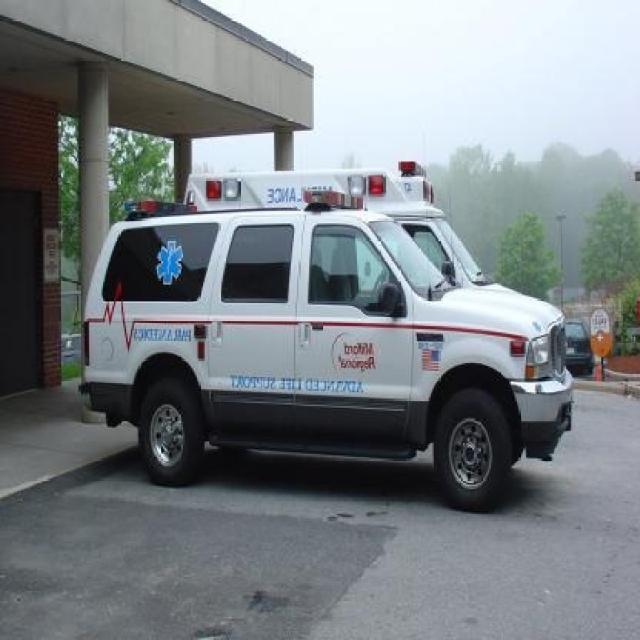Car: (75, 187, 572, 508)
Van: (172, 158, 572, 420)
